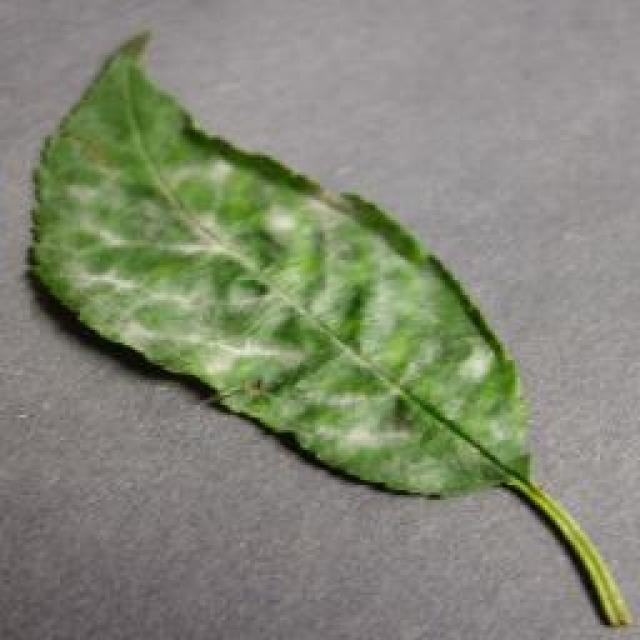Cherry___Powdery_mildew: (12, 8, 628, 638)
